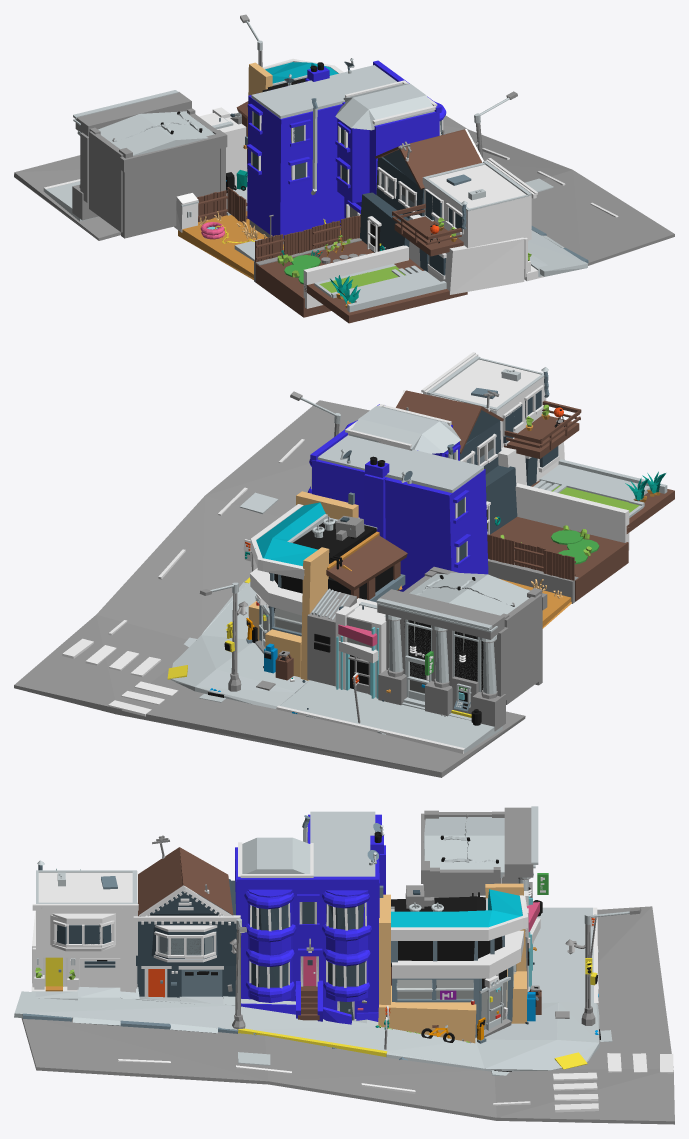
Rendered from Re-Colored Town.fbx.
3 views of the same model, one above another, from view 1: azimuth 30°, elevation 25°; view 2: azimuth 150°, elevation 25°; view 3: azimuth 270°, elevation 25° (orthographic). The views are drawn at different scales.
Visible parts, largest first — view 1: group892455447, group1855824391, group284740563, group247688703, group562006303, group1933068889, group522730016, group1421539807, group1348016452, group1667746924, group1350899225, group1583477956 (+24 smaller); view 2: group892455447, group1855824391, group1105155231, group1179754258, group1933068889, group998772054, group1350899225, group247688703, group522730016, group1421539807, group1348016452, group512663821 (+34 smaller); view 3: group892455447, group1105155231, group1583477956, group247688703, group1179754258, group1933068889, group522730016, group1983641924, group290091007, group1671810338, group1362634429, group1348016452 (+41 smaller).
Part boxes in pixels (x1,y1,x2,y2): group892455447: (14, 115, 674, 265); group1855824391: (247, 95, 344, 238); group284740563: (121, 149, 219, 238); group247688703: (422, 164, 531, 247); group562006303: (409, 214, 524, 294); group1933068889: (251, 65, 396, 118); group522730016: (98, 111, 214, 155); group1421539807: (89, 131, 123, 232); group1348016452: (335, 83, 434, 130); group1667746924: (399, 130, 481, 189); group1350899225: (255, 240, 373, 317); group1583477956: (342, 102, 439, 218); group892455447: (14, 400, 525, 777); group1855824391: (384, 469, 488, 591); group1105155231: (170, 582, 309, 708); group1179754258: (280, 680, 502, 753); group1933068889: (317, 435, 483, 492); group998772054: (515, 483, 629, 550); group1350899225: (490, 517, 628, 601); group247688703: (427, 359, 546, 448); group522730016: (409, 572, 529, 615); group1421539807: (504, 594, 541, 704); group1348016452: (348, 406, 460, 453); group512663821: (472, 627, 508, 731); group892455447: (21, 906, 674, 1124); group1105155231: (14, 991, 599, 1071); group1583477956: (235, 847, 379, 1018); group247688703: (36, 871, 137, 955); group1179754258: (527, 907, 593, 1003); group1933068889: (310, 811, 375, 876); group522730016: (423, 817, 504, 877); group1983641924: (378, 985, 476, 1043); group290091007: (392, 930, 523, 978); group1671810338: (391, 896, 502, 966); group1362634429: (391, 889, 522, 927); group1348016452: (242, 837, 310, 873).
Bounding box in the file's own units: 577 × 236 × 760.
